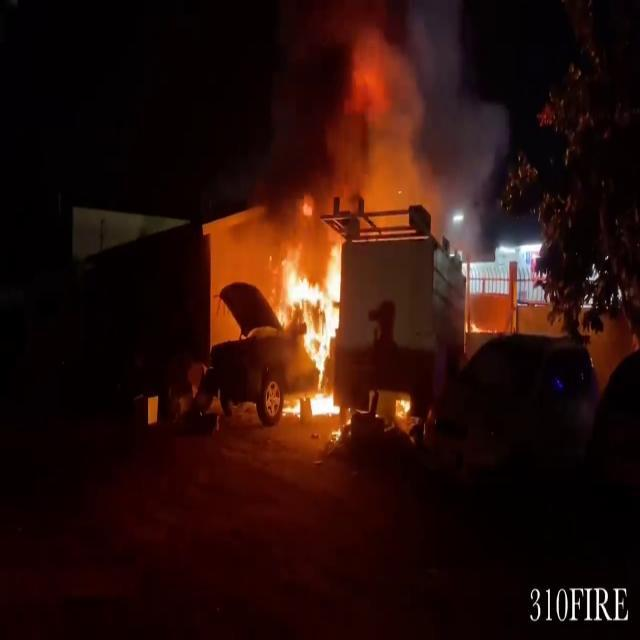Fire: (274, 238, 354, 421)
Smoke: (250, 0, 509, 230)
